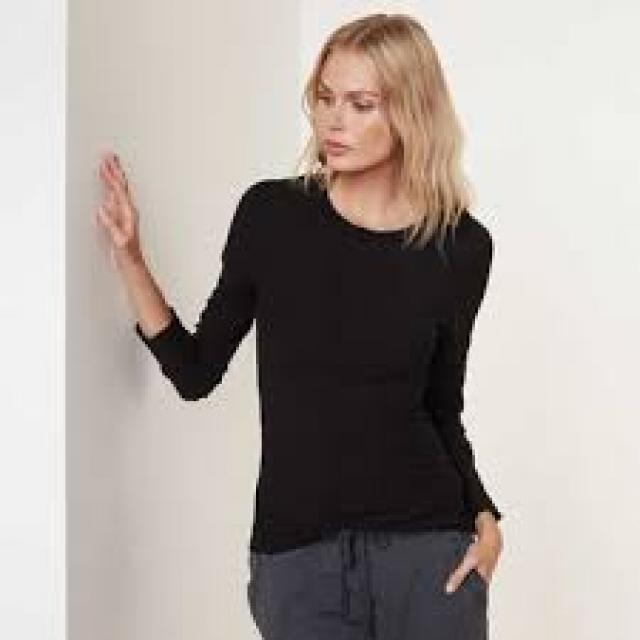plain: (197, 164, 505, 546)
